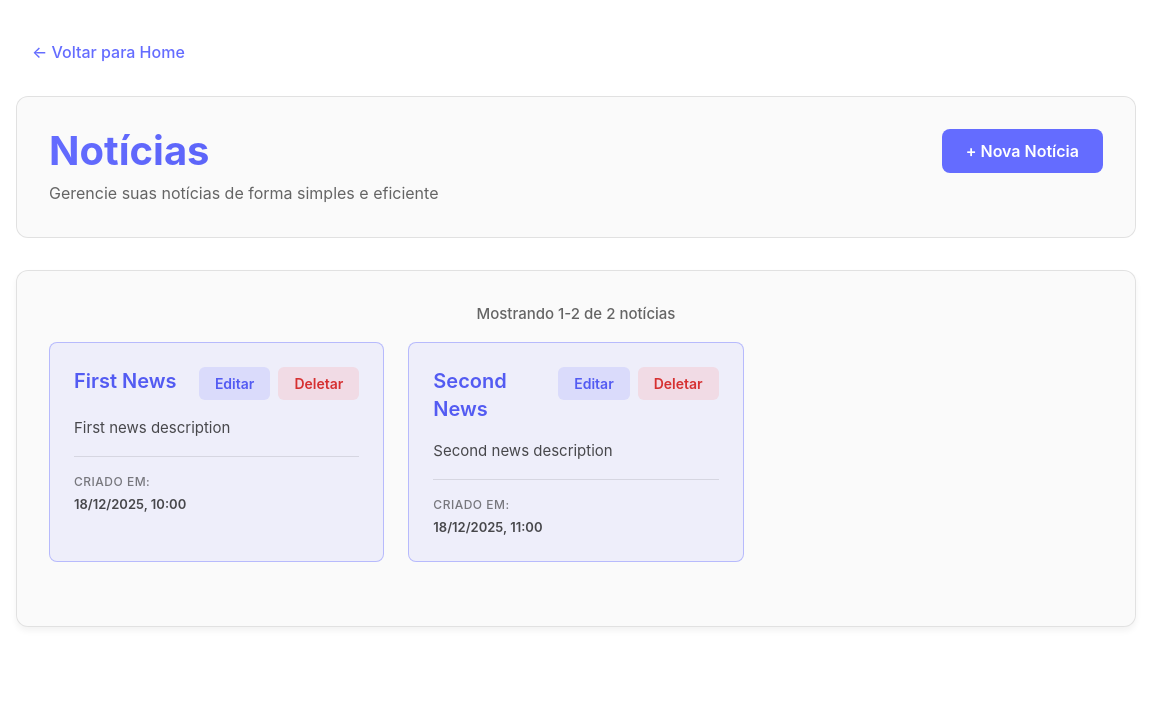
Test: News Page › submits create form successfully
Click the button with aria-label "criar nova notícia".
click(1022, 151)  # box [942,129,1103,173]
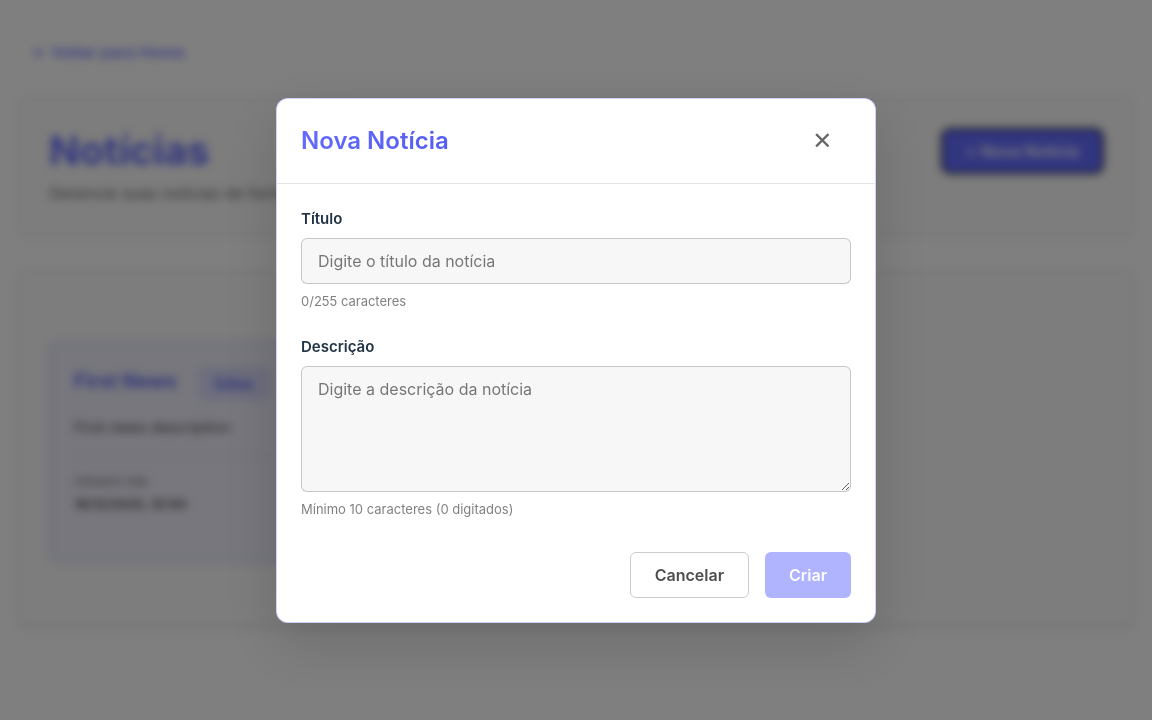
Type "New News" into the field labelled "Título".
click(576, 261); type("New News")  # box [301,238,851,284]
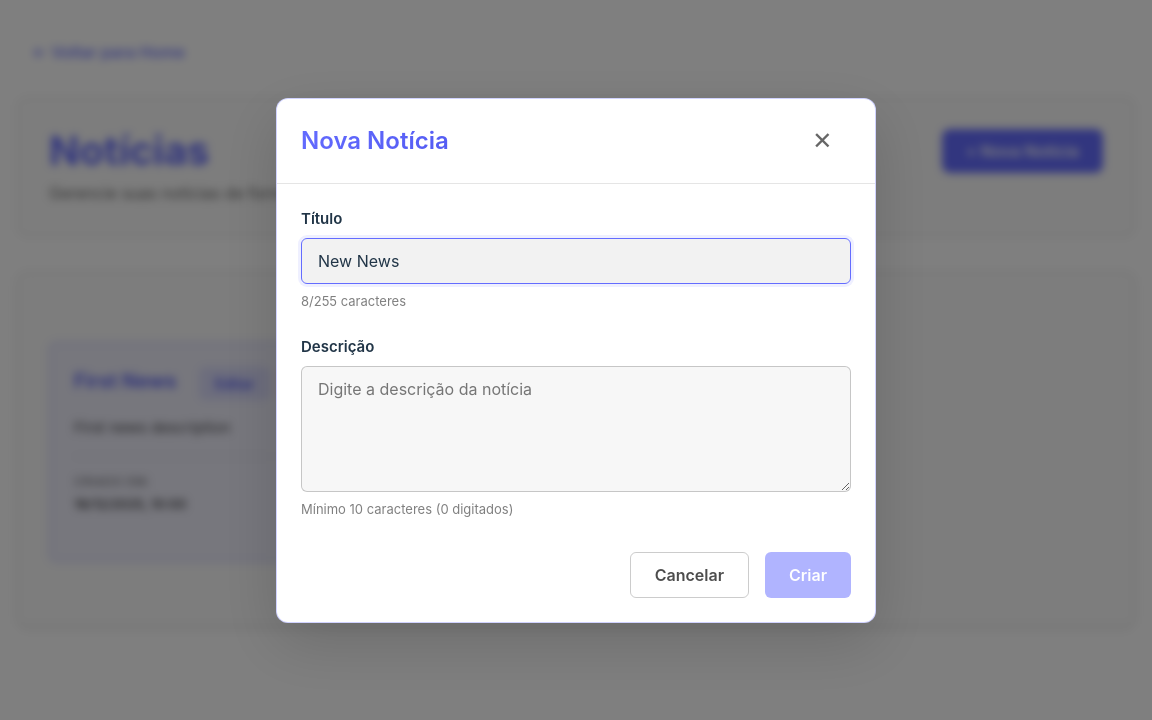
Type "New description" into the text box labelled "Descrição".
click(576, 429); type("New description")  # box [301,366,851,492]
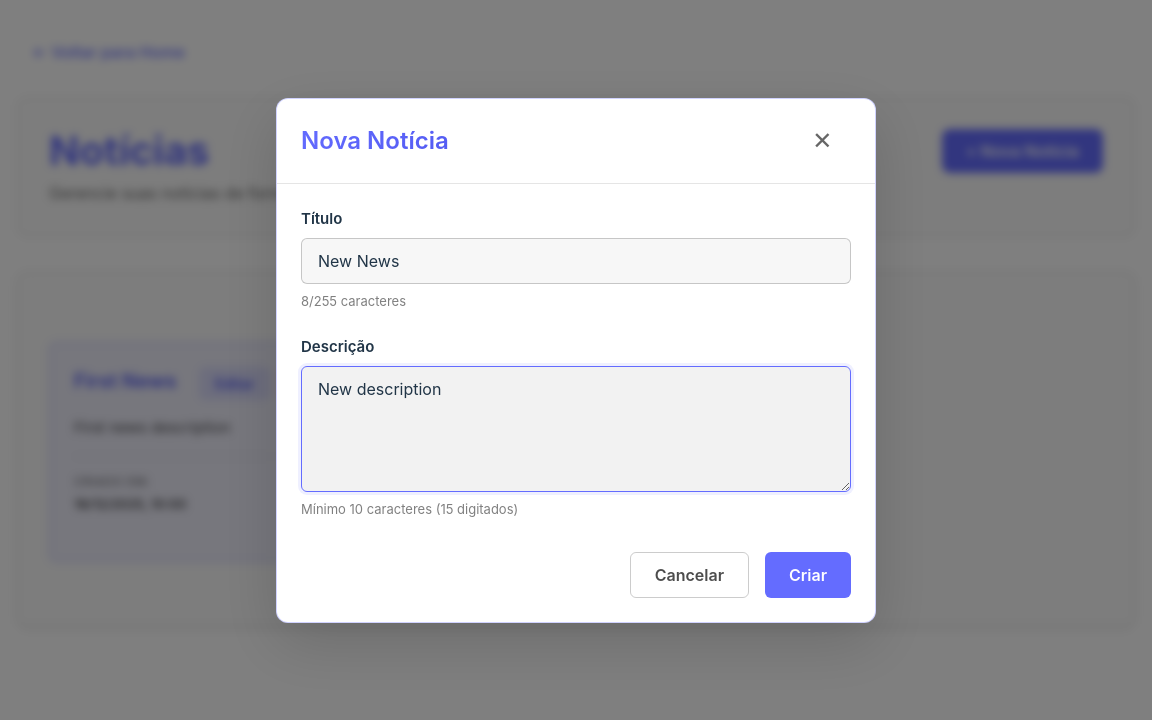
Click the button "Criar".
click(808, 574)  # box [765,552,851,598]
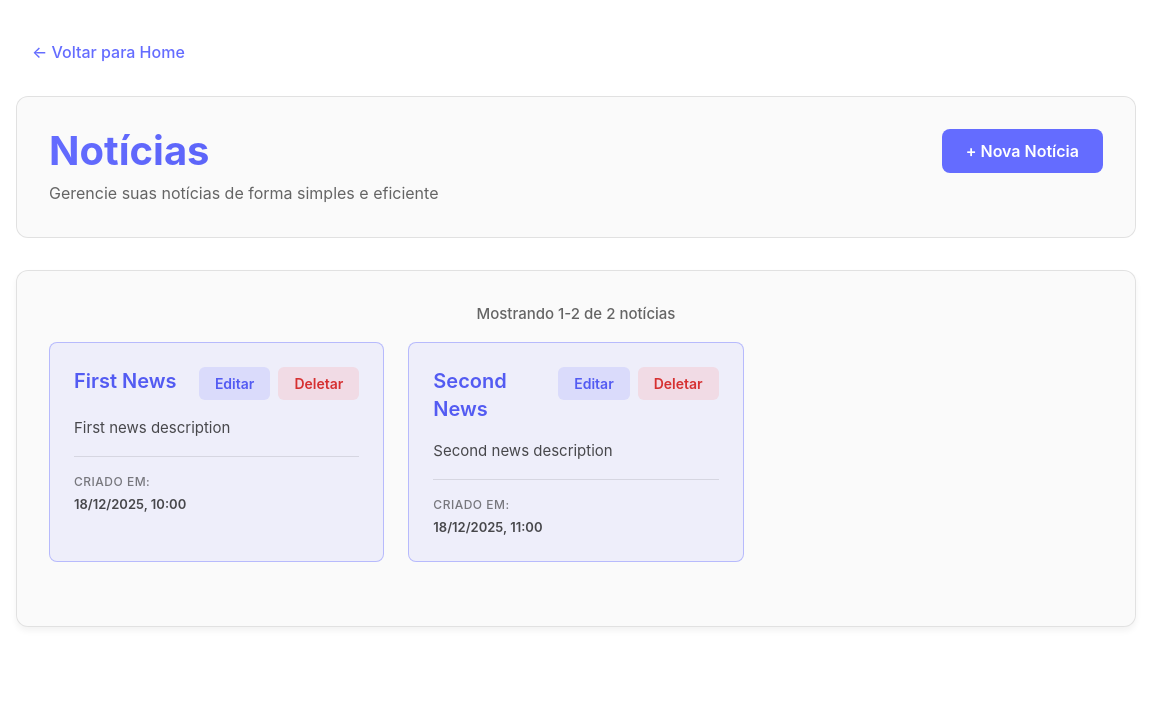
Expected: the dialog is gone
